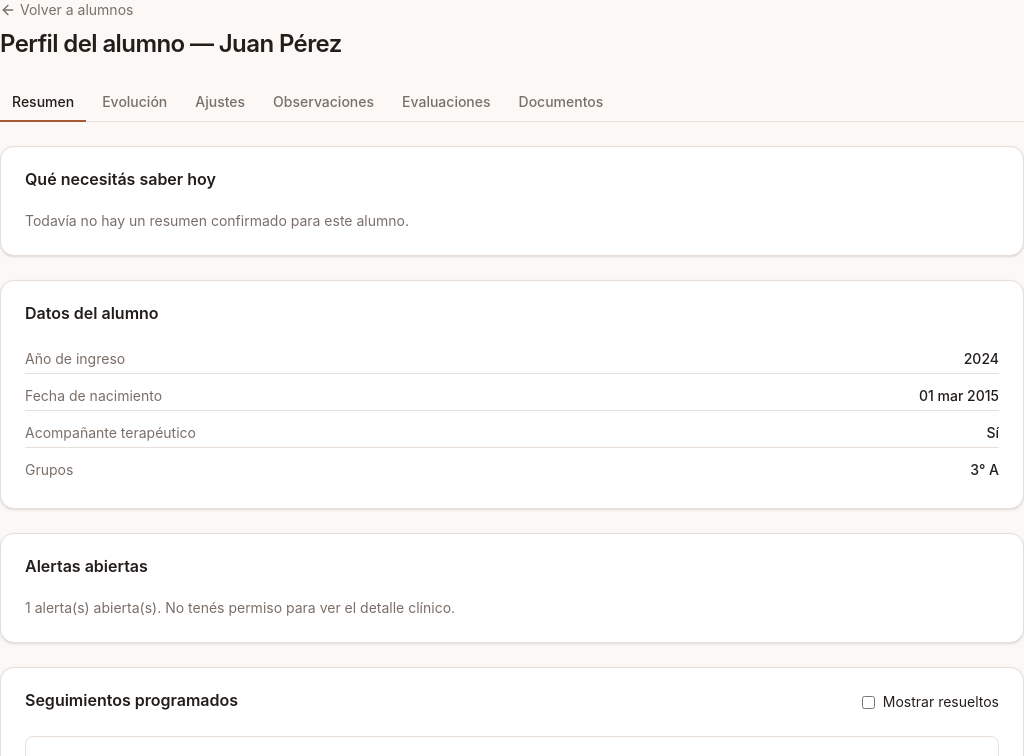
StudentTrackingPage › hides the general average from a teacher limited to their own subjects
Click the tab "Evaluaciones".
click(446, 103)  # box top-left (390, 84), bottom-right (502, 122)
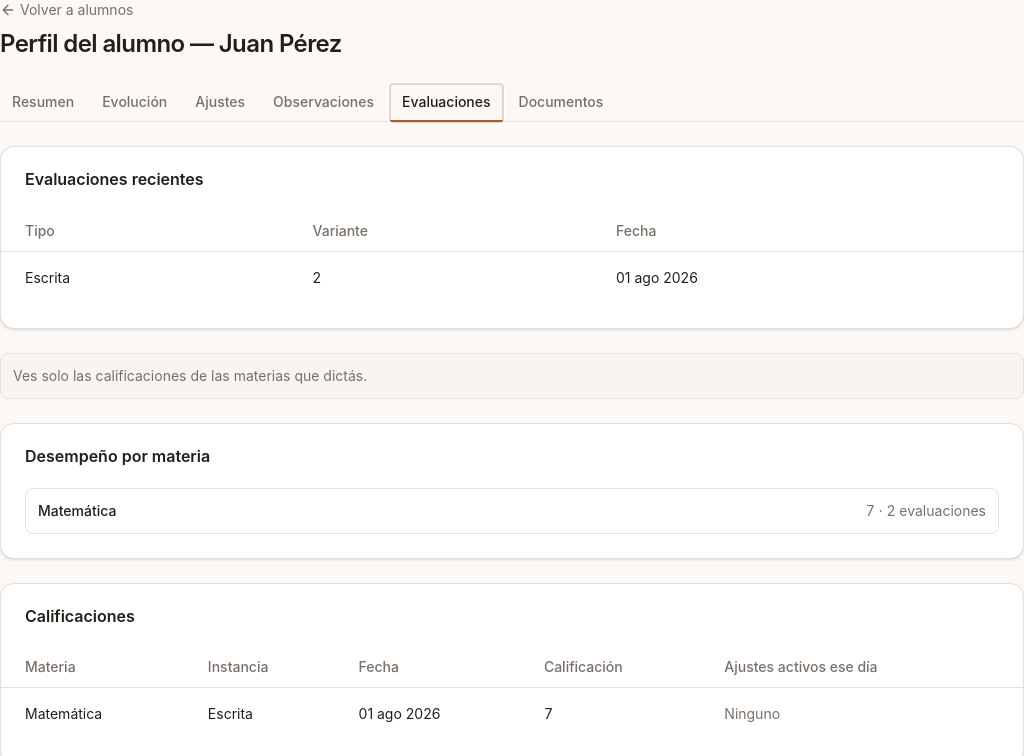
Now the heading "Desempeño por materia" is shown, box top-left (25, 448), bottom-right (210, 464)
